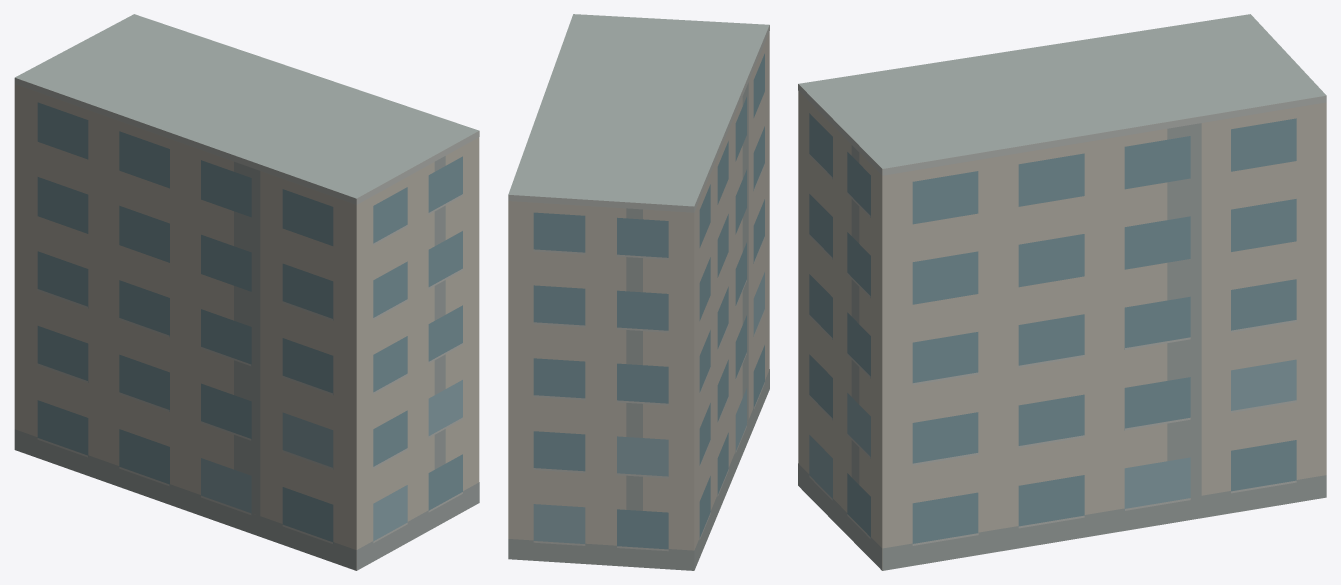
Rendered from survey-upis-32930111.glb.
The picture shows the model from 3 angles, left to right: view 1: azimuth 30°, elevation 25°; view 2: azimuth 150°, elevation 25°; view 3: azimuth 270°, elevation 25°; orthographic projection. The views are drawn at different scales.
Visible parts, largest first — view 1: survey-upis-32930111.tmp; view 2: survey-upis-32930111.tmp; view 3: survey-upis-32930111.tmp.
Boxes of the visible parts, x1=… form: survey-upis-32930111.tmp: x1=14, y1=14, x2=479, y2=570; survey-upis-32930111.tmp: x1=508, y1=14, x2=769, y2=570; survey-upis-32930111.tmp: x1=798, y1=14, x2=1326, y2=570.
Size of the model in its own units: 11.92 by 14.4 by 17.17.
